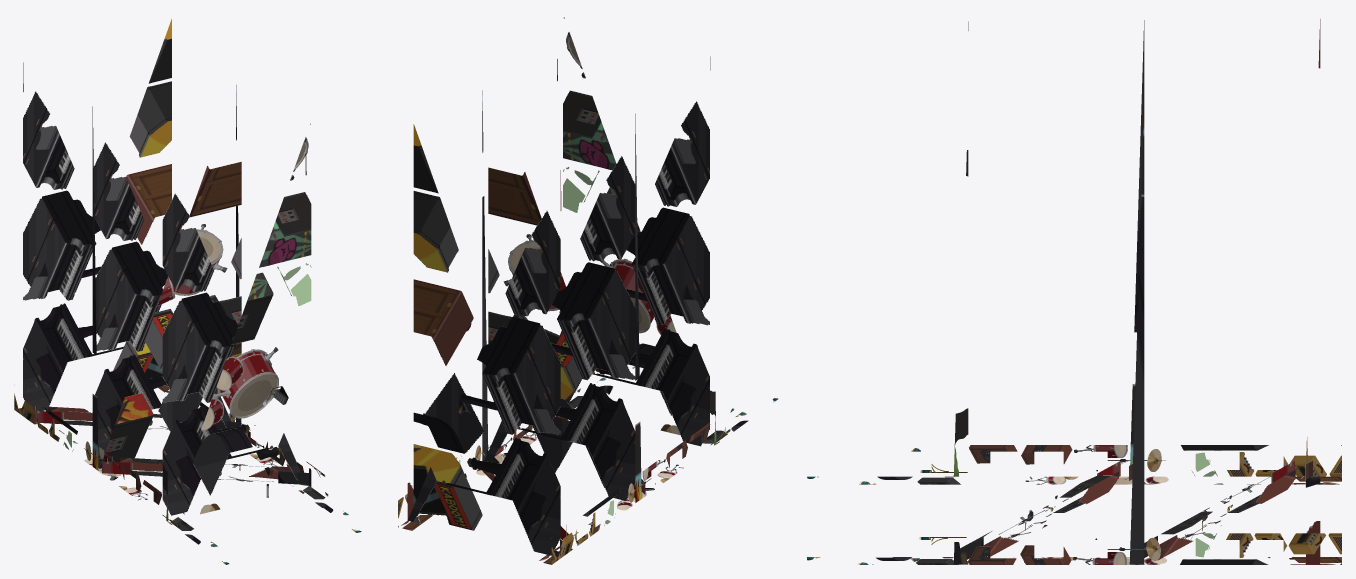
3 renders of one model, left to right at view 1: azimuth 30°, elevation 25°; view 2: azimuth 150°, elevation 25°; view 3: azimuth 270°, elevation 25°, orthographic. The views are drawn at different scales.
Size of the model in its own units: 0.7151 by 1.75 by 1.83.
